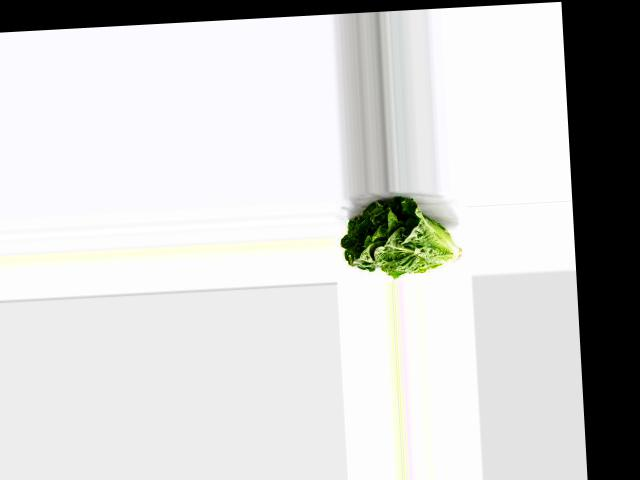lettuce: (339, 192, 460, 282)
